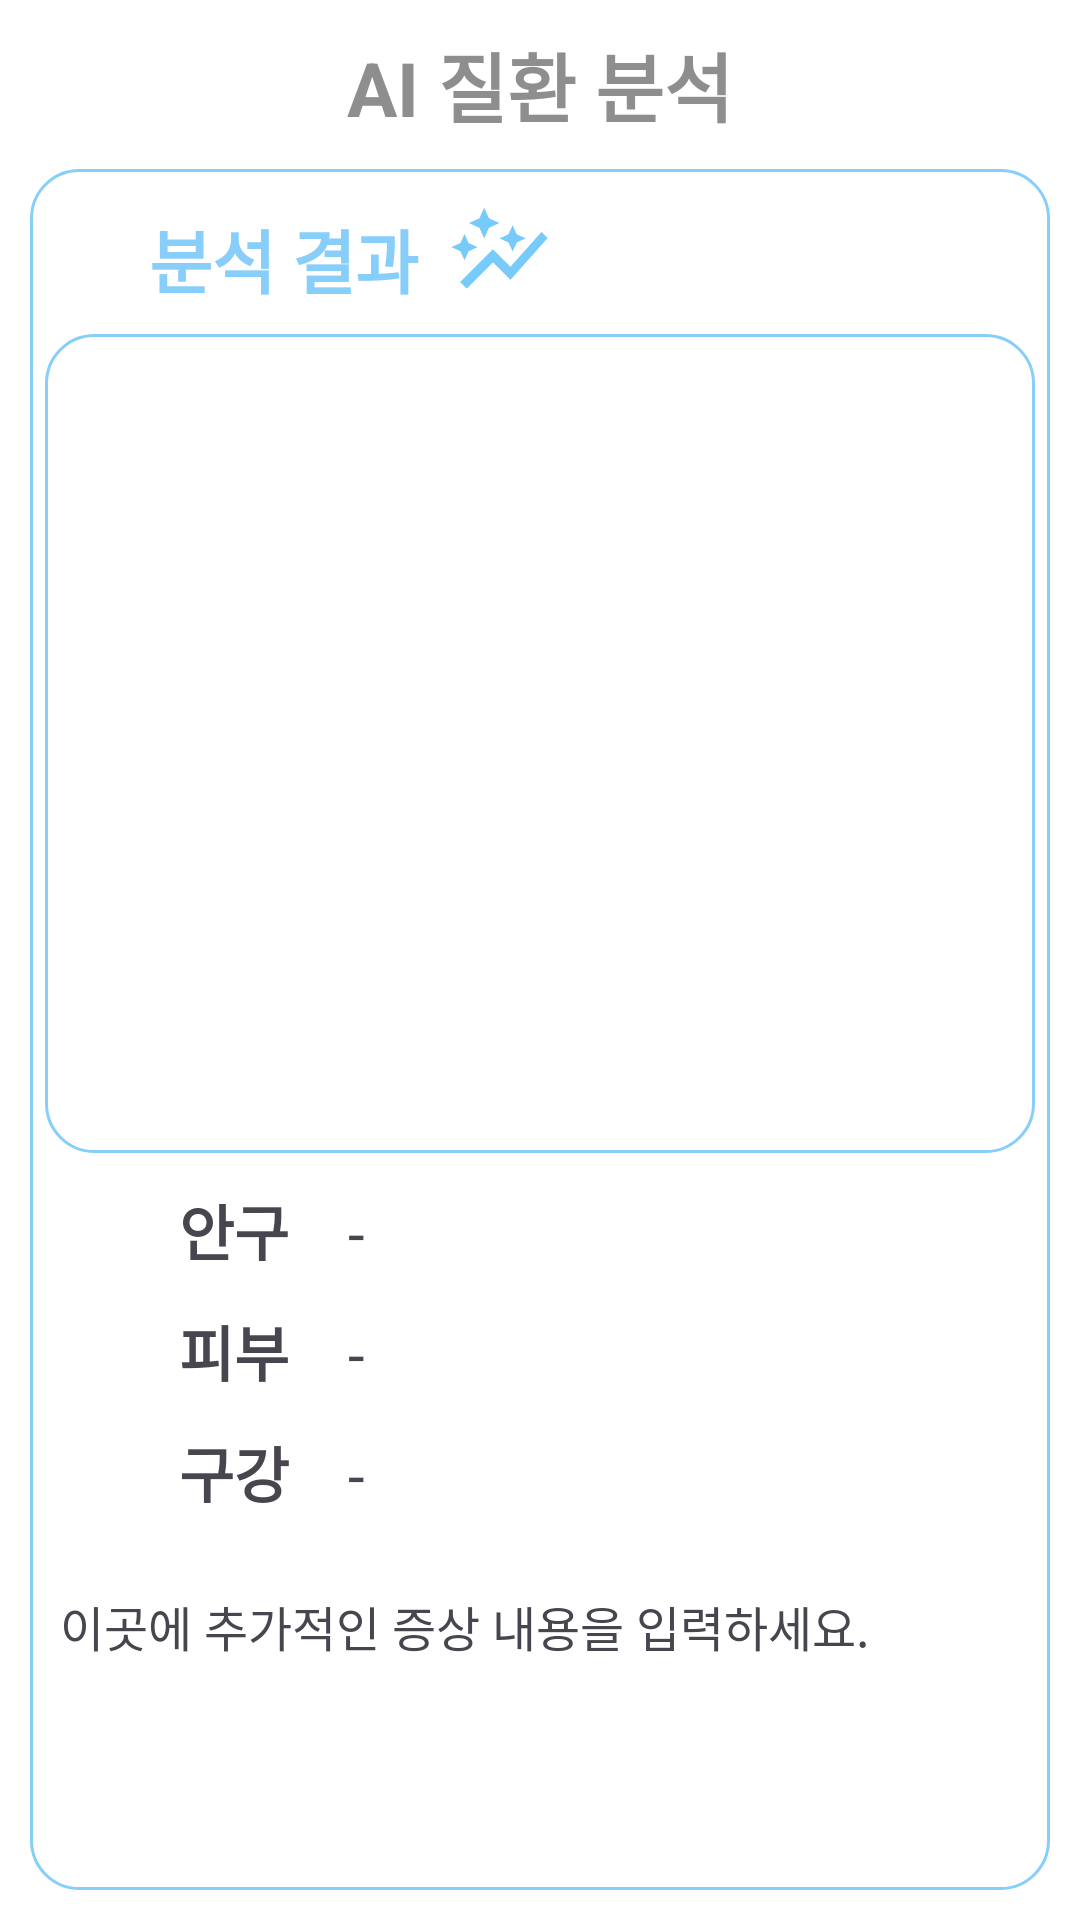

Named icons in this screenshot (1080x1920) and their centers, (x,y):
auto graph: (499,248)
